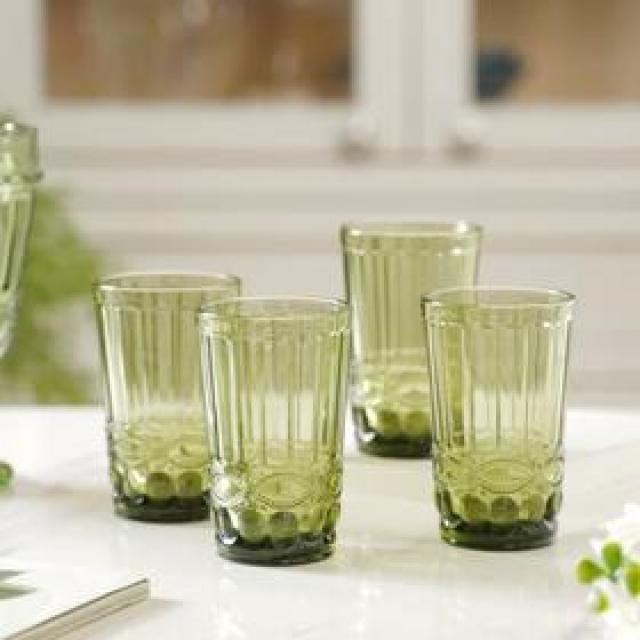non-organic waste: (199, 296, 354, 566)
